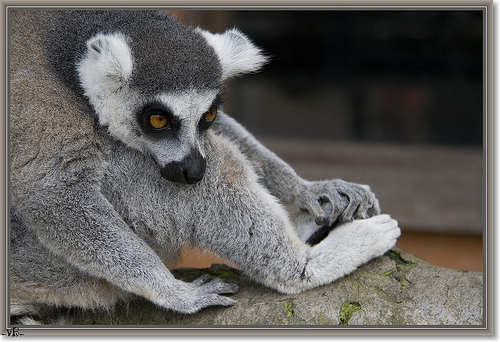cat: (7, 7, 403, 318)
